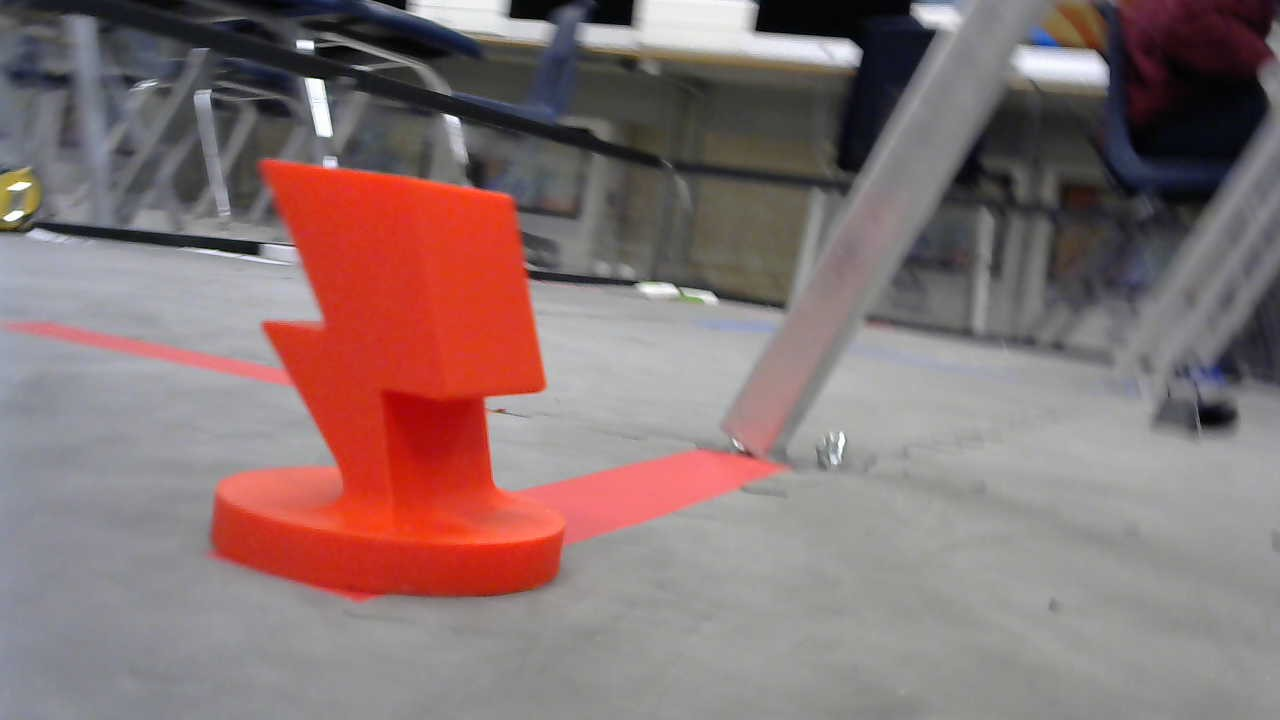redobject: (201, 157, 565, 604)
